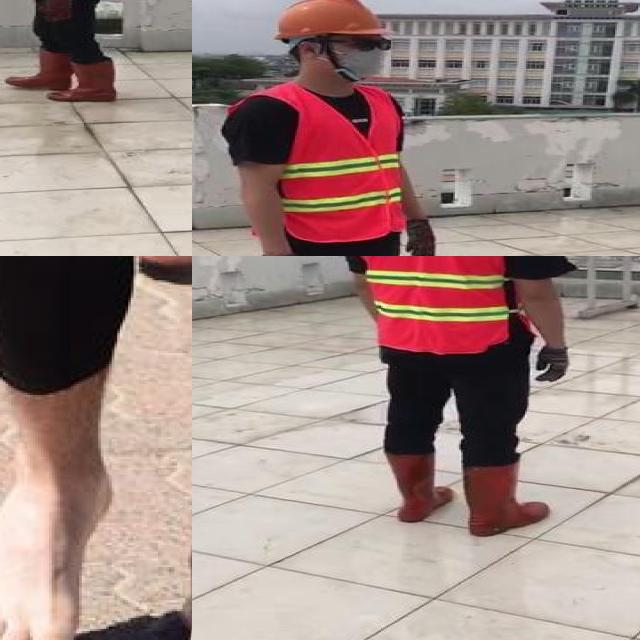Barefoots: (0, 469, 136, 640)
boots: (461, 457, 553, 538), (384, 449, 453, 526), (50, 61, 121, 102), (8, 51, 74, 89)
face_mask: (332, 33, 394, 78)
glasses: (340, 34, 396, 54)
hand_glove: (534, 343, 569, 385), (405, 219, 439, 256), (37, 0, 73, 24)
head_helmet: (271, 0, 396, 40)
person: (336, 256, 580, 543), (212, 0, 439, 256), (0, 0, 130, 105)
vest: (272, 88, 405, 243), (349, 256, 532, 353)
